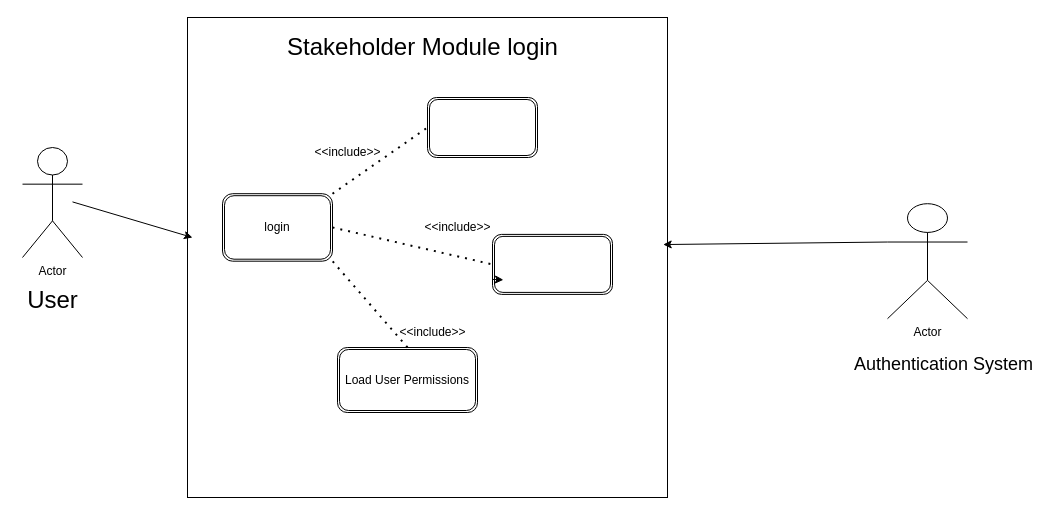
This 1059x515 diagram has some shape labels left out. The shapes that lost their labels are listed below. From the top down, each one's box as (x1, y1, x2, y2) in pixels, then its label:
(426, 96, 538, 158): Authenticate User
(492, 233, 612, 294): Create Session
